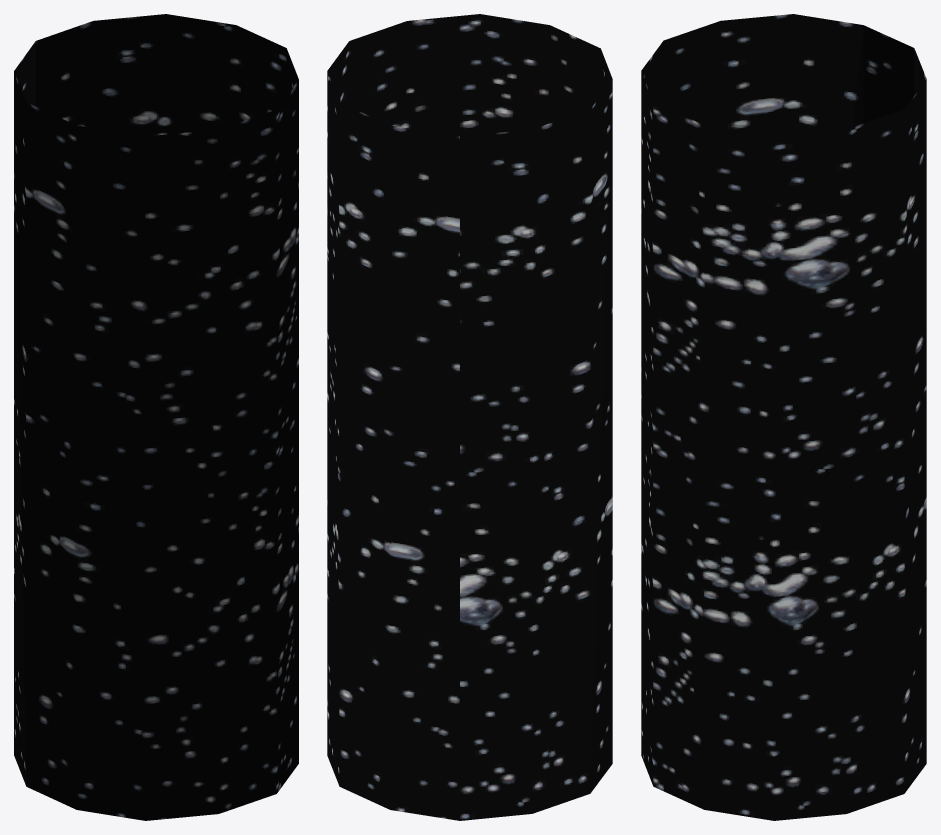
The model's file is stg610_MotTank_22.obj.
3 renders of one model, left to right at view 1: azimuth 30°, elevation 25°; view 2: azimuth 150°, elevation 25°; view 3: azimuth 270°, elevation 25°, orthographic.
Visible parts, largest first — view 1: polygon0; view 2: polygon0; view 3: polygon0.
Part boxes in pixels (left/top/right/bottom): polygon0: left=14, top=14, right=298, bottom=820; polygon0: left=327, top=14, right=612, bottom=820; polygon0: left=641, top=14, right=926, bottom=820.
Bounding box in the file's own units: 143 × 374 × 141.
1 material, 1 textured.
